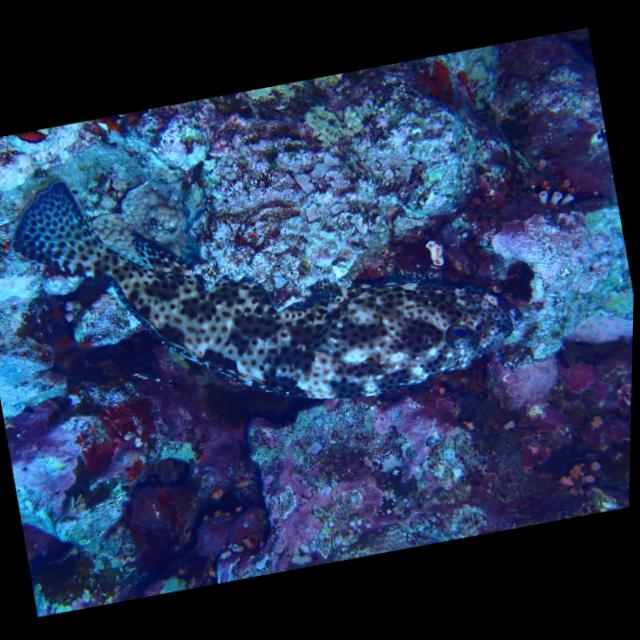Groupers: (0, 95, 535, 463)
